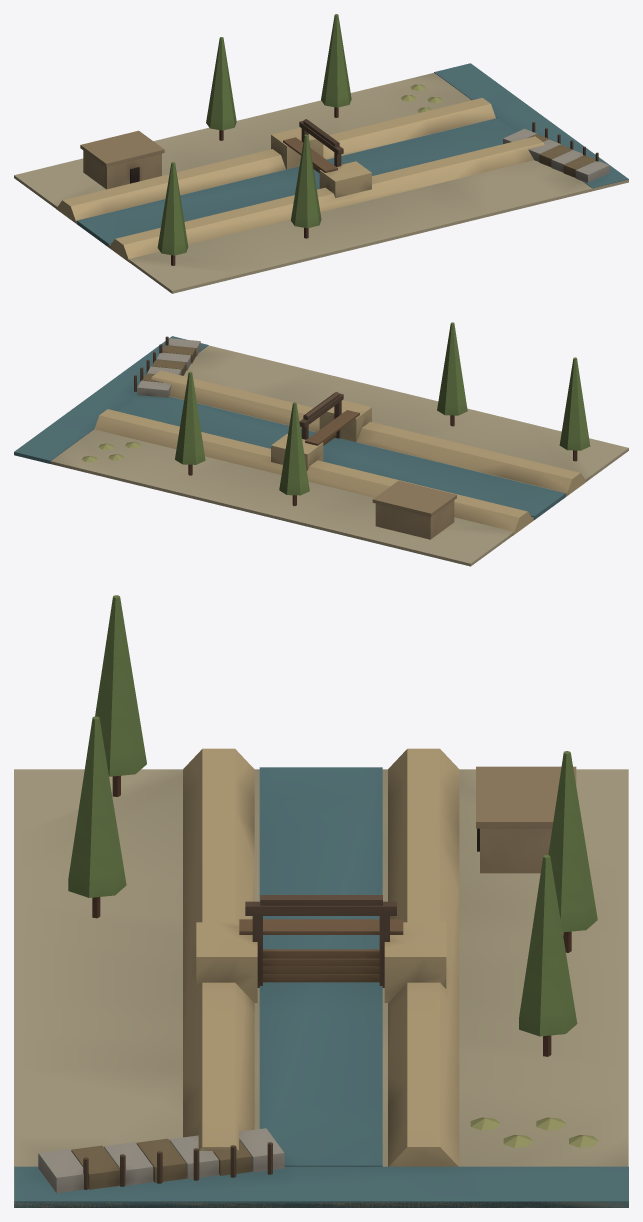
The model's file is canal-head.glb.
The picture shows the model from 3 angles, top to bottom: view 1: azimuth 30°, elevation 25°; view 2: azimuth 150°, elevation 25°; view 3: azimuth 270°, elevation 25°; orthographic projection. The views are drawn at different scales.
Visible parts, largest first — view 1: p0_channel, p2_trees, p1_sluice; view 2: p0_channel, p2_trees, p1_sluice; view 3: p0_channel, p2_trees, p1_sluice.
Boxes of the visible parts, left/top/right/bottom form: p0_channel: left=14, top=63, right=628, bottom=293; p2_trees: left=80, top=14, right=442, bottom=265; p1_sluice: left=271, top=119, right=609, bottom=197; p0_channel: left=14, top=336, right=628, bottom=566; p2_trees: left=81, top=322, right=590, bottom=539; p1_sluice: left=134, top=336, right=371, bottom=470; p0_channel: left=14, top=748, right=628, bottom=1207; p2_trees: left=68, top=595, right=599, bottom=1147; p1_sluice: left=38, top=895, right=446, bottom=1193.
Size of the model in its own units: 50.02 by 11.02 by 30.02.
